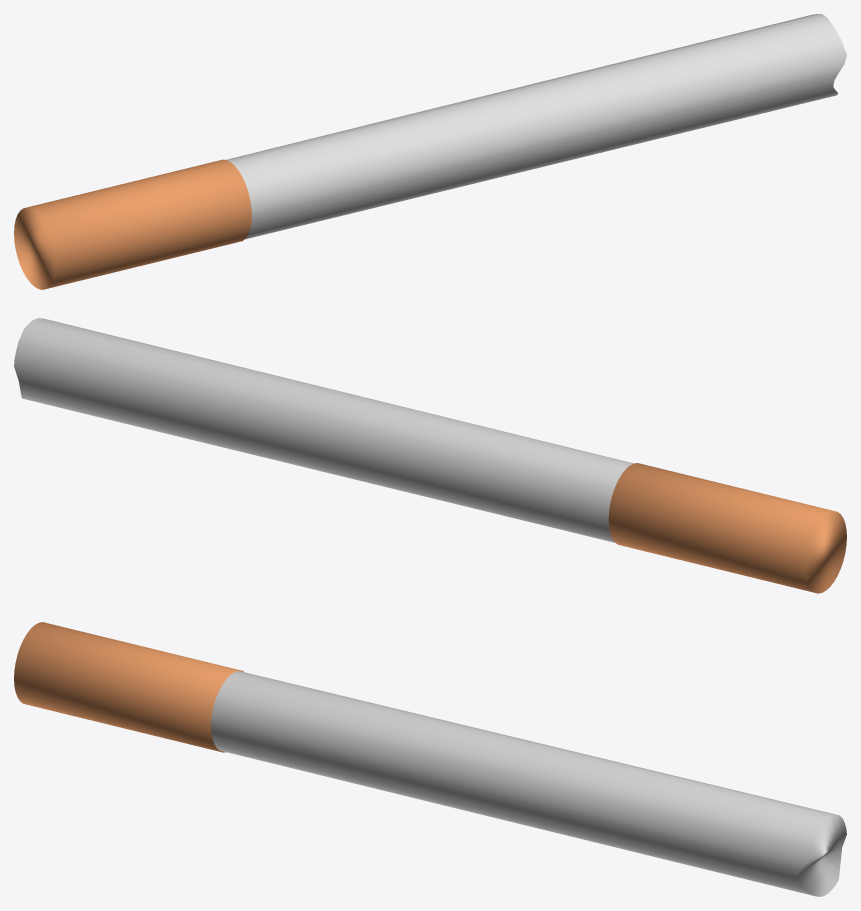
Rendered from Cigarro.fbx.
3 views of the same model, one above another, from view 1: azimuth 30°, elevation 25°; view 2: azimuth 150°, elevation 25°; view 3: azimuth 330°, elevation 25° (orthographic).
Parts seen in each view (by area): view 1: Cylinder.001, Cylinder.002; view 2: Cylinder.001, Cylinder.002; view 3: Cylinder.001, Cylinder.002.
Boxes of the visible parts, x1=… form: Cylinder.001: x1=226, y1=14, x2=846, y2=239; Cylinder.002: x1=14, y1=159, x2=251, y2=289; Cylinder.001: x1=14, y1=318, x2=633, y2=542; Cylinder.002: x1=608, y1=463, x2=846, y2=593; Cylinder.001: x1=211, y1=671, x2=846, y2=896; Cylinder.002: x1=14, y1=622, x2=244, y2=752.
Bounding box in the file's own units: 630 × 58.42 × 57.58.
